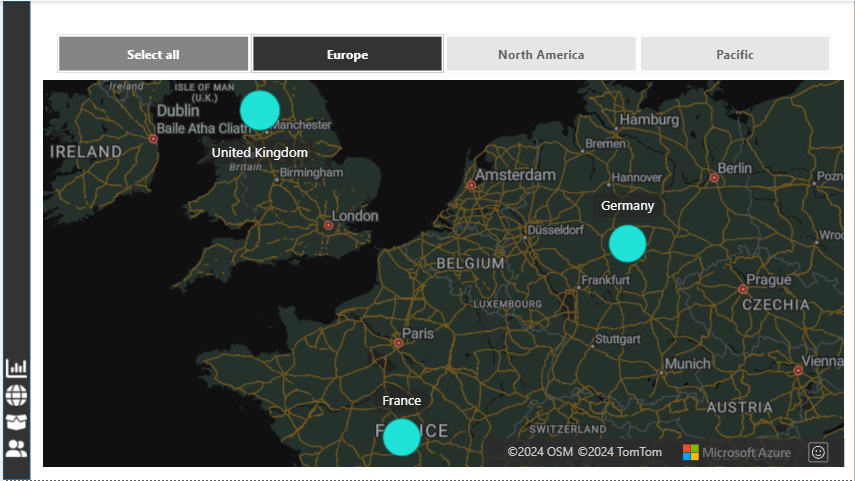

The page's visual inventory and layout, read from the dashboard file:
{"tool":"powerbi","page":{"name":"MAP","canvas":[1280,720],"ordinal":1},"visuals":[{"type":"shape","box":[0,0,41.2,720],"z":0},{"type":"actionButton","box":[0,573.5,41.2,40.3],"z":1000,"group":"g1"},{"type":"map","fields":{"Category":["Territory Lookup.Country"],"Size":["Measure Table.Total Orders"]},"box":[55.5,113.7,1214.3,591.9],"z":1000},{"type":"actionButton","box":[0,533.2,41.2,40.3],"z":2000,"group":"g1"},{"type":"slicer","fields":{"Values":["Territory Lookup.Continent"]},"box":[55.5,43,1214.3,70.7],"z":2000},{"type":"actionButton","box":[0,654.1,41.2,40.3],"z":3000,"group":"g1"},{"type":"group","id":"g1","title":"Navigation Buttons","box":[0,533.2,41.3,161.3],"z":3000},{"type":"actionButton","box":[0,613.8,41.2,40.3],"z":4000,"group":"g1"}]}

Visuals, with their boxes in screenshot pixels (x1, y1, x2, y2):
shape: 0/2/27/477
actionButton: 0/380/27/407
map - Territory Lookup.Country x Measure Table.Total Orders: 37/77/836/467
actionButton: 0/354/27/380
slicer - Territory Lookup.Continent: 37/30/836/77
actionButton: 0/433/27/460
"Navigation Buttons" group: 0/354/27/460
actionButton: 0/407/27/433
